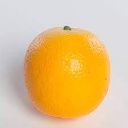orange: (19, 22, 113, 119)
